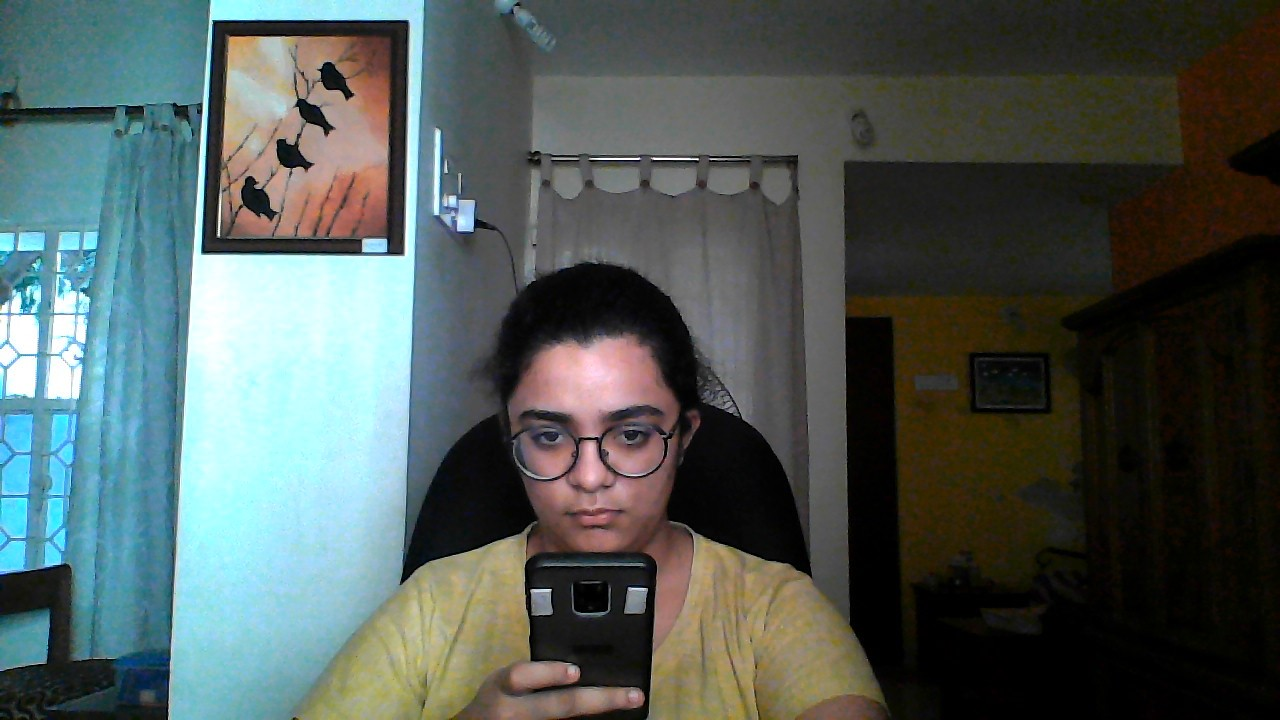mobile phone: (517, 550, 686, 717)
person: (469, 240, 760, 550)
